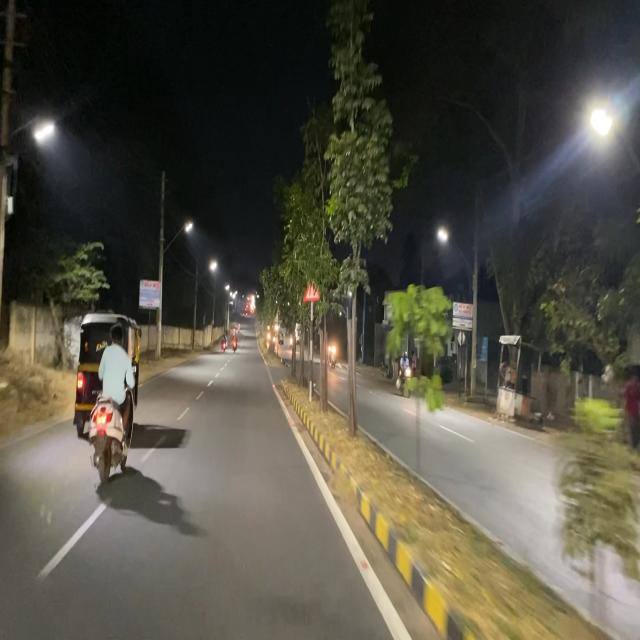bien_cam: (302, 271, 321, 302)
